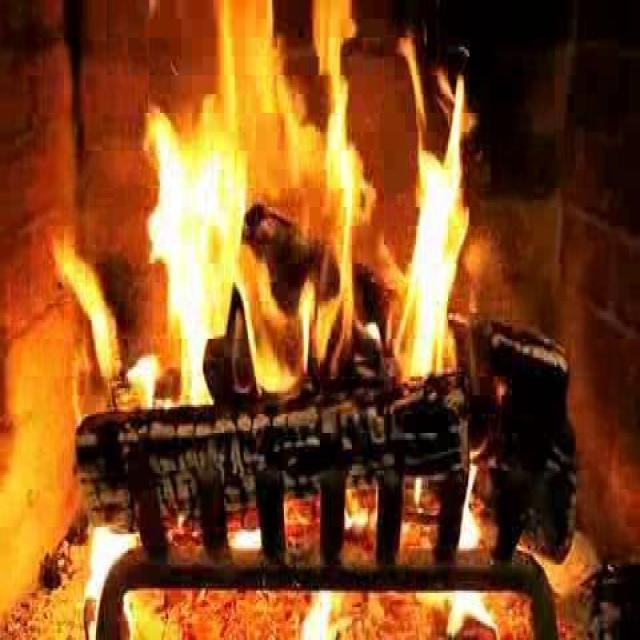fire: (7, 10, 608, 622)
